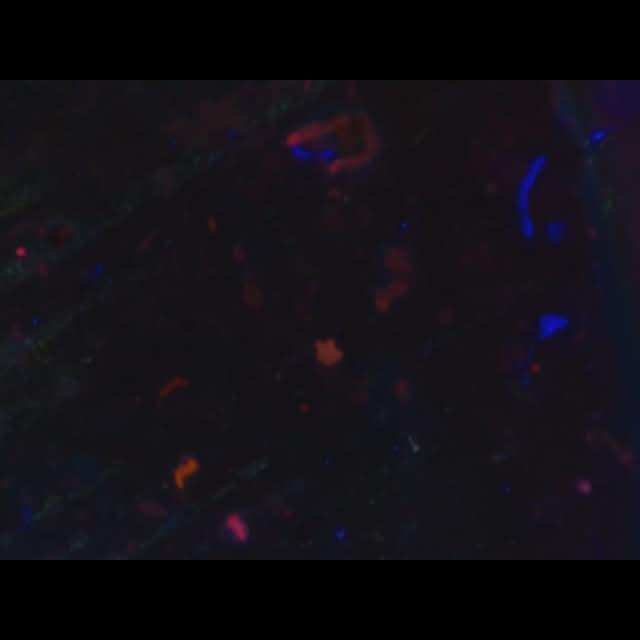Fragment: (314, 338, 344, 368)
